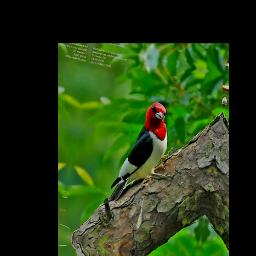Woodpecker: (105, 93, 183, 214)
